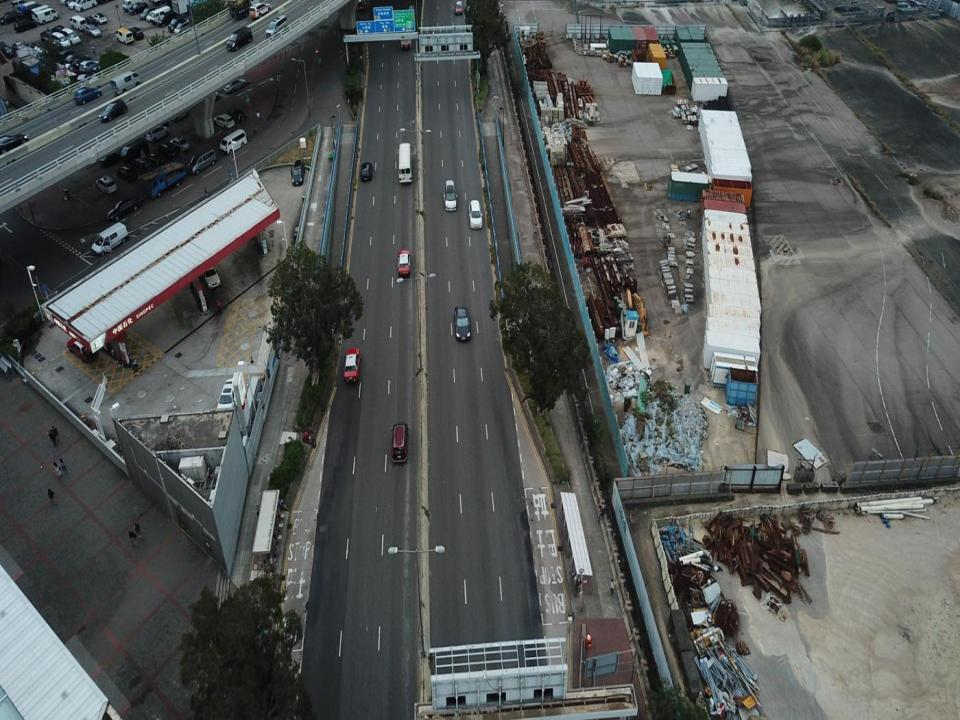bus: (397, 140, 413, 185)
car: (91, 218, 128, 256), (216, 376, 240, 422), (103, 195, 141, 220), (390, 420, 410, 465), (116, 136, 144, 164), (188, 148, 216, 174), (452, 302, 470, 342), (226, 26, 253, 52), (0, 133, 29, 157), (344, 347, 362, 385), (202, 253, 220, 291), (100, 98, 128, 120), (141, 150, 169, 172), (442, 177, 458, 213), (468, 197, 484, 231), (396, 246, 412, 278), (266, 14, 287, 38), (93, 147, 118, 166), (74, 86, 101, 103), (248, 3, 272, 21), (290, 156, 304, 186), (94, 176, 116, 195), (212, 111, 234, 130), (146, 122, 168, 141), (13, 15, 35, 33), (224, 108, 246, 126), (60, 26, 80, 45), (115, 161, 136, 179), (224, 76, 246, 93), (359, 160, 373, 182), (52, 30, 69, 48), (169, 134, 188, 150), (0, 9, 16, 26), (83, 24, 101, 38), (128, 26, 144, 39), (454, 0, 462, 17)
truck: (139, 159, 188, 196), (229, 0, 252, 22)
van: (220, 129, 246, 155), (397, 20, 414, 53), (112, 72, 140, 92), (35, 6, 58, 24), (115, 26, 134, 45), (31, 4, 51, 22), (18, 2, 41, 17), (69, 14, 85, 31)
